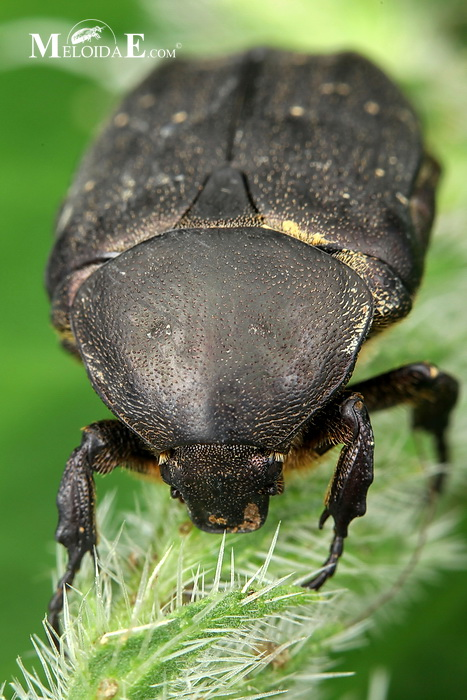Protaetia_morio_morio: (24, 38, 461, 645)
